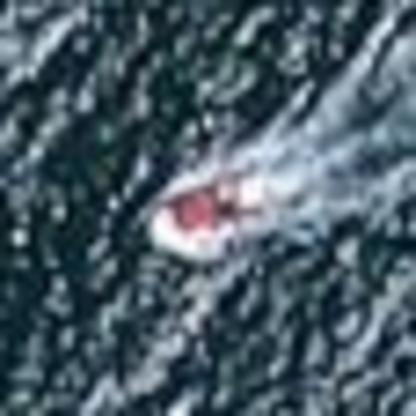ship: (129, 161, 267, 270)
